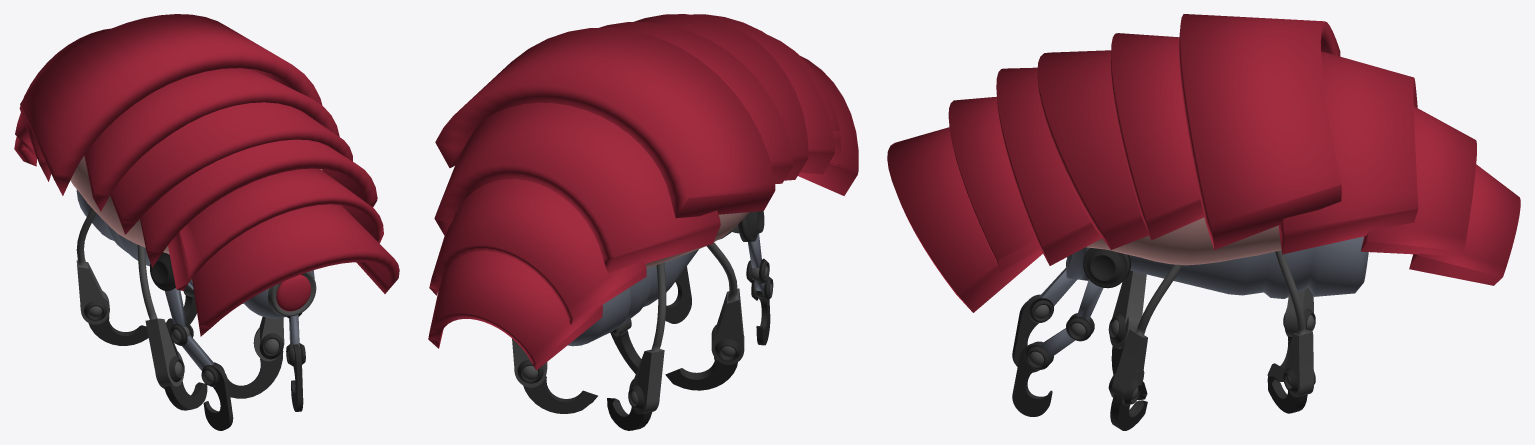
Rendered from world-ender-armored.glb.
The picture shows the model from 3 angles, left to right: view 1: azimuth 30°, elevation 25°; view 2: azimuth 150°, elevation 25°; view 3: azimuth 270°, elevation 25°; orthographic projection. The views are drawn at different scales.
Visible parts, largest first — view 1: Cube.006, Cube.003, Cube.005, Cube.004, Cube.009, Cube.002, Cube.012, BézierCurve.015, BézierCurve, Sphere, BézierCurve.022, Sphere.002 (+6 smaller); view 2: Cube.006, Cube.007, Cube.010, Cube.008, Cube.005, Cube.004, Cube.002, BézierCurve.015, BézierCurve, Cube.012, Cylinder.001, Cube.003 (+4 smaller); view 3: Cube.006, Cube.007, Cube.005, Cube.004, Cube.003, Cube.002, Cube.010, Cube.009, Cylinder.001, Cube.012, Cube.008, Sphere (+5 smaller).
Boxes of the visible parts, <box> form: Cube.006: <box>20,14,322,195</box>; Cube.003: <box>192,204,399,336</box>; Cube.005: <box>84,68,339,211</box>; Cube.004: <box>110,102,352,234</box>; Cube.009: <box>168,168,383,290</box>; Cube.002: <box>140,139,377,267</box>; Cube.012: <box>150,252,305,430</box>; BézierCurve.015: <box>137,245,207,410</box>; BézierCurve: <box>76,208,148,345</box>; Sphere: <box>70,156,322,254</box>; BézierCurve.022: <box>228,350,283,398</box>; Sphere.002: <box>276,274,311,311</box>; Cube.006: <box>435,27,775,218</box>; Cube.007: <box>434,102,720,273</box>; Cube.010: <box>429,179,646,324</box>; Cube.008: <box>428,251,602,370</box>; Cube.005: <box>599,22,793,183</box>; Cube.004: <box>634,14,808,180</box>; Cube.002: <box>691,14,835,174</box>; BézierCurve.015: <box>665,242,744,390</box>; BézierCurve: <box>607,262,666,430</box>; Cube.012: <box>665,211,773,345</box>; Cylinder.001: <box>567,249,698,346</box>; Cube.003: <box>798,56,858,195</box>; Cube.006: <box>1178,14,1341,249</box>; Cube.007: <box>1278,51,1418,254</box>; Cube.005: <box>1110,33,1204,240</box>; Cube.004: <box>1037,50,1149,249</box>; Cube.003: <box>887,127,1042,312</box>; Cube.002: <box>996,67,1101,265</box>; Cube.010: <box>1361,106,1476,256</box>; Cube.009: <box>948,96,1040,271</box>; Cylinder.001: <box>1129,236,1368,298</box>; Cube.012: <box>1012,248,1130,416</box>; Cube.008: <box>1409,164,1520,285</box>; Sphere: <box>1086,217,1281,265</box>.
Size of the model in its own units: 2 by 2.33 by 3.48.
